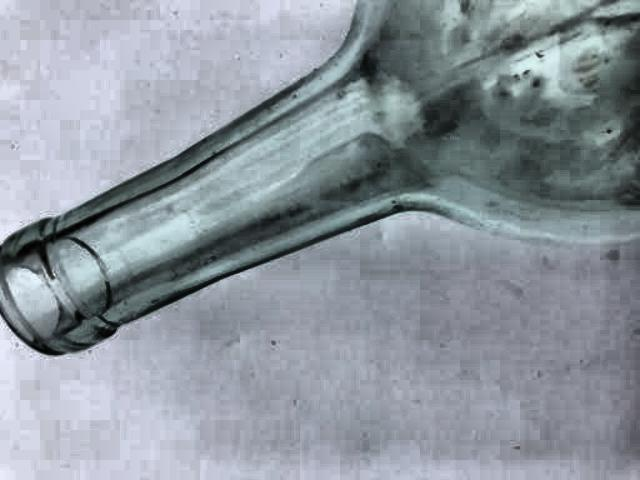Bottles: (0, 0, 640, 386)
